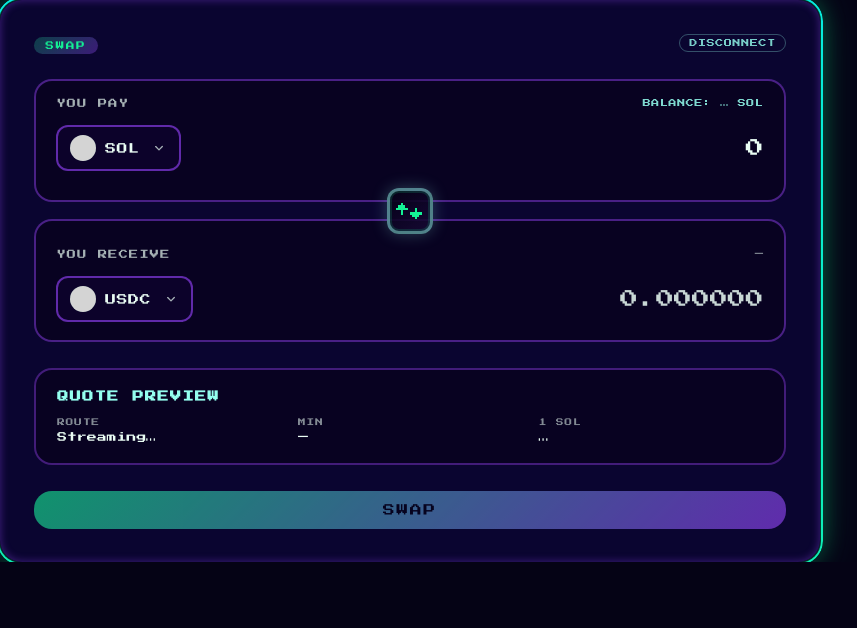
Test: SwapCard › shows an error when the confirmed transaction failed on-chain
Replace the text in the field named "amount to pay" below "You Pay" with "1" at {"x": 478, "y": 148}, box [192, 139, 764, 157]
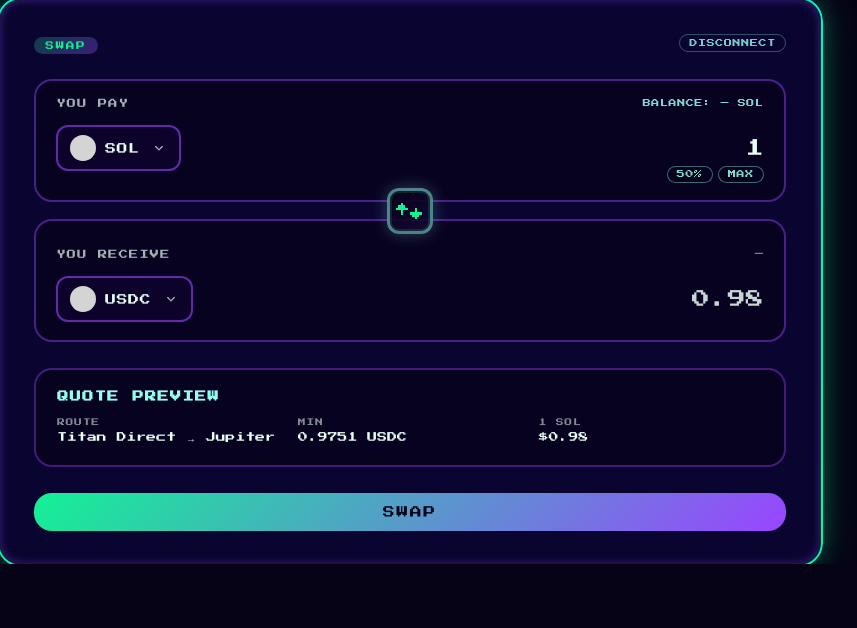
Click the button "Swap" at {"x": 410, "y": 512}, box [34, 493, 786, 530]
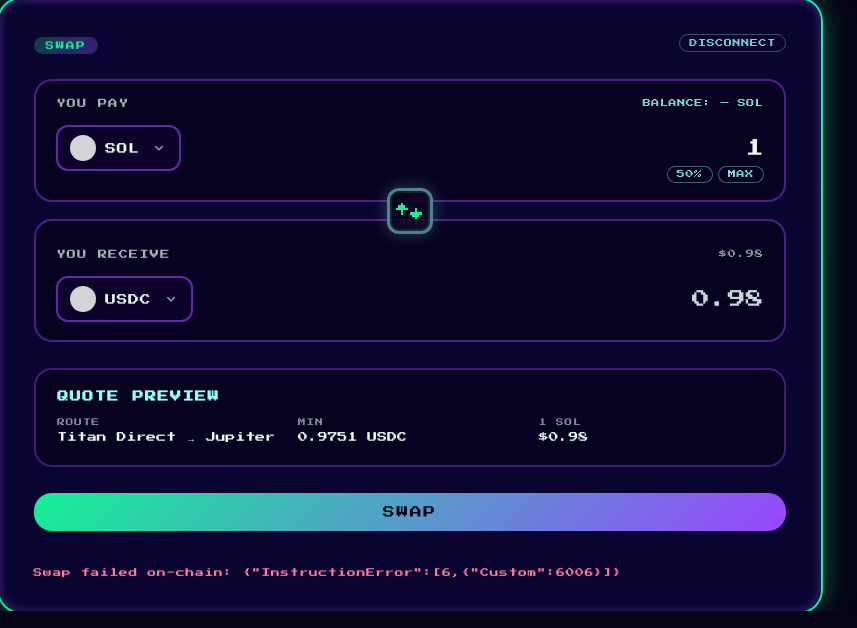
Result: the text "Swap failed on-chain" is shown at [34, 568, 623, 577]
